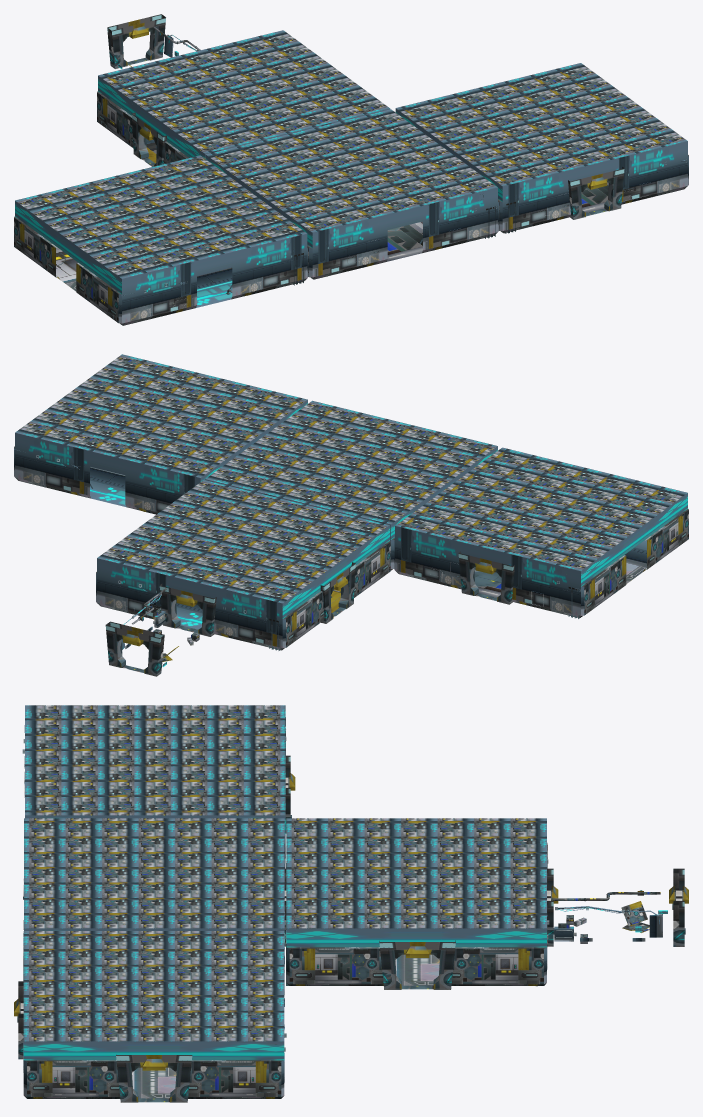
Rendered from Combined_Mesh_root_scene__10_7ad9d44b__ZombiesII_laboratory_09_d_715a74b3_c1f257_part002.obj.
3 renders of one model, top to bottom at view 1: azimuth 30°, elevation 25°; view 2: azimuth 150°, elevation 25°; view 3: azimuth 270°, elevation 25°, orthographic. The views are drawn at different scales.
Bounding box in the file's own units: 124 × 10.21 × 104.
261 materials, 261 textured.
